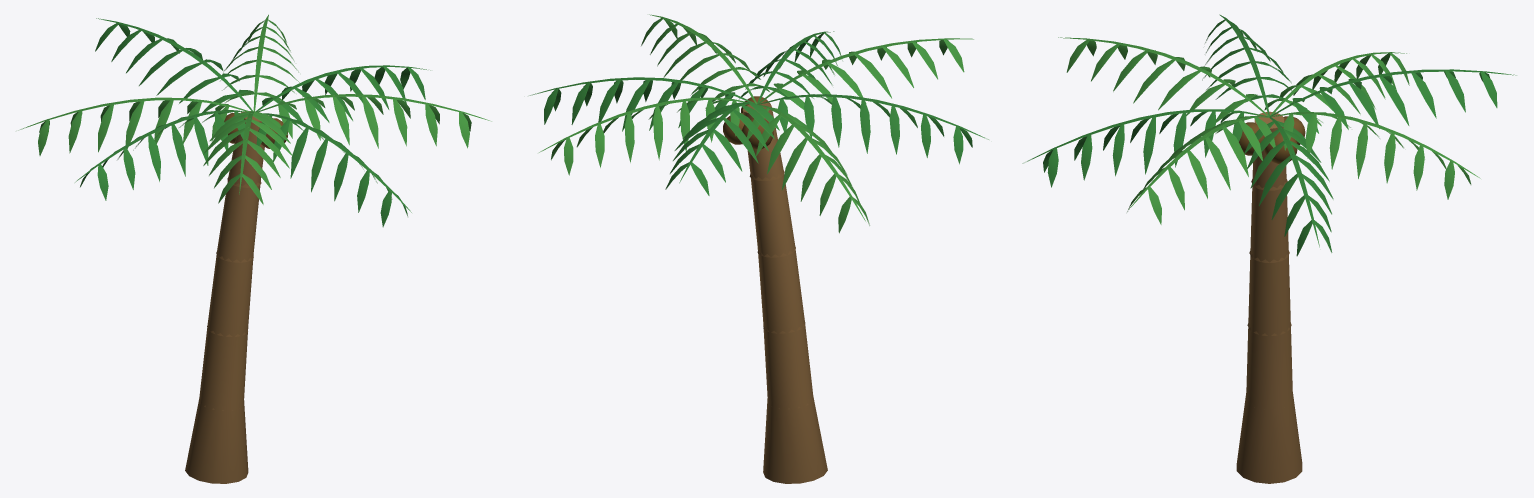
Rendered from tree-palm-hd.glb.
3 renders of one model, left to right at view 1: azimuth 30°, elevation 25°; view 2: azimuth 150°, elevation 25°; view 3: azimuth 270°, elevation 25°, orthographic. The views are drawn at different scales.
Parts seen in each view (by area): view 1: tree-palm-hd; view 2: tree-palm-hd; view 3: tree-palm-hd.
Boxes of the visible parts, x1,y1,x2,y2 form: tree-palm-hd: (18,14,491,483); tree-palm-hd: (529,14,988,483); tree-palm-hd: (1022,14,1516,483).
Size of the model in its own units: 6.56 by 5.86 by 6.55.
